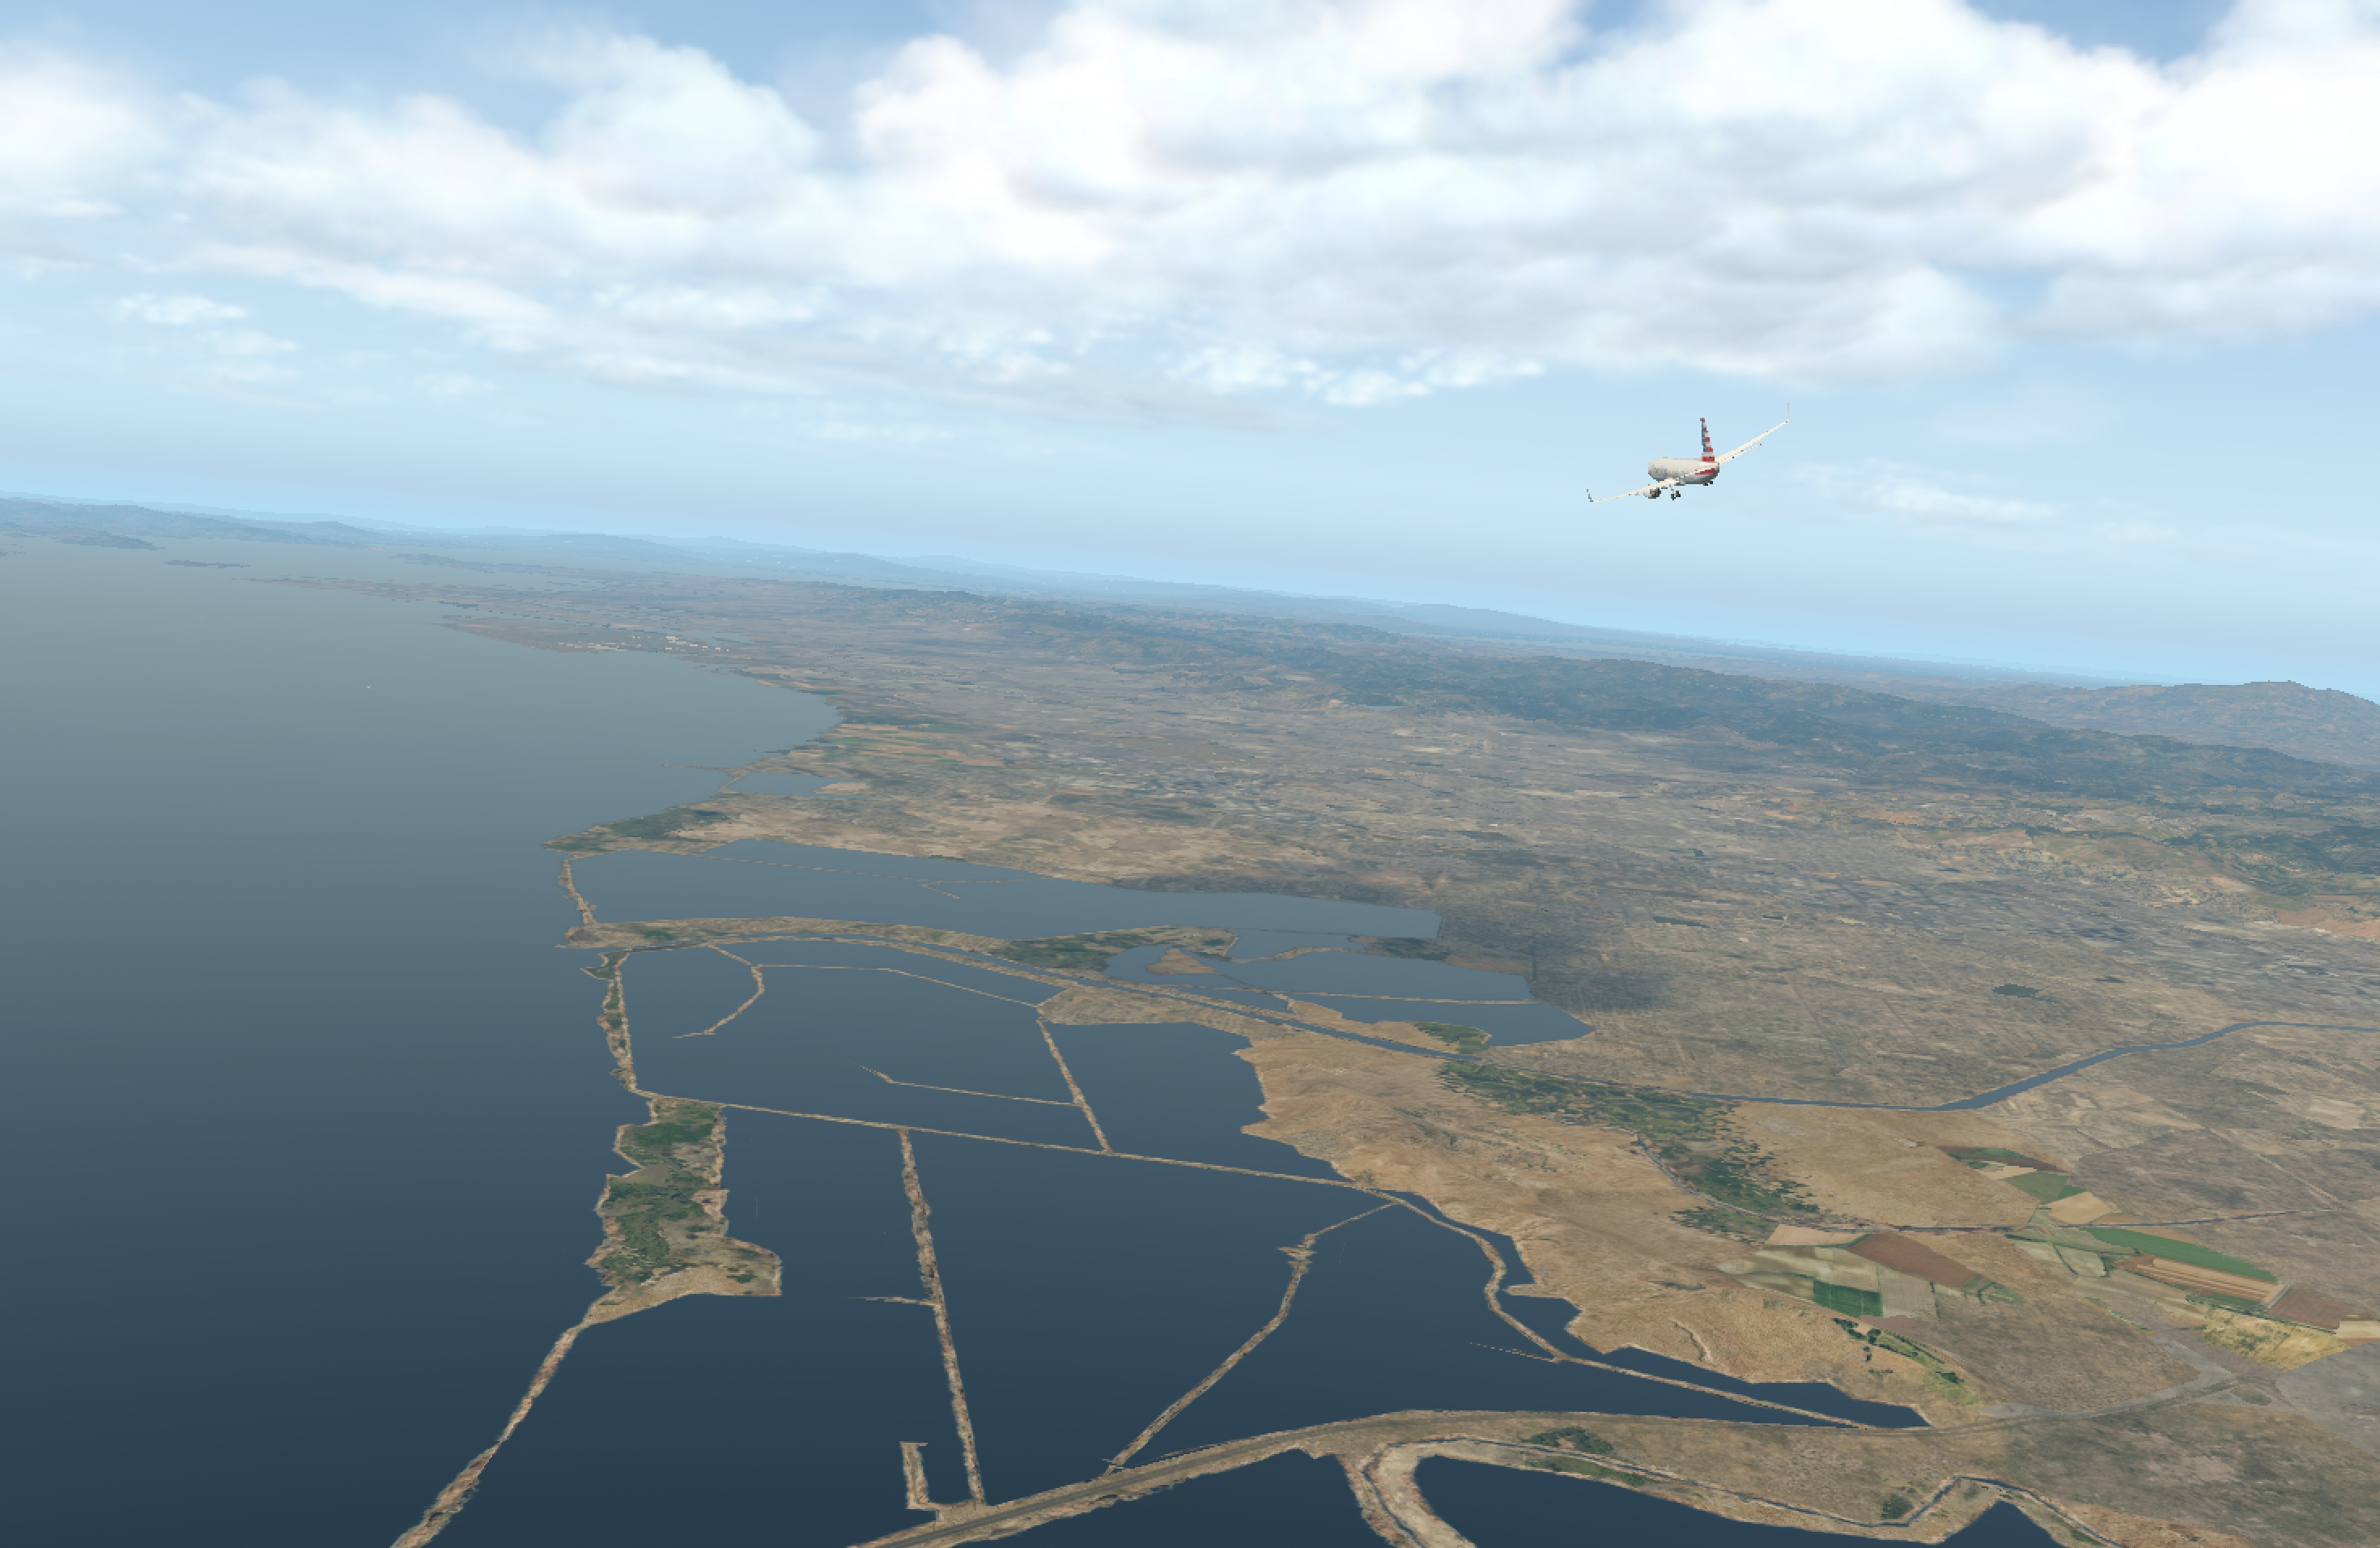aircraft: (1566, 430, 1801, 519)
